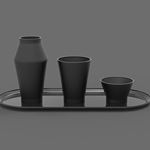cups: (55, 54, 92, 103), (96, 75, 136, 104)
